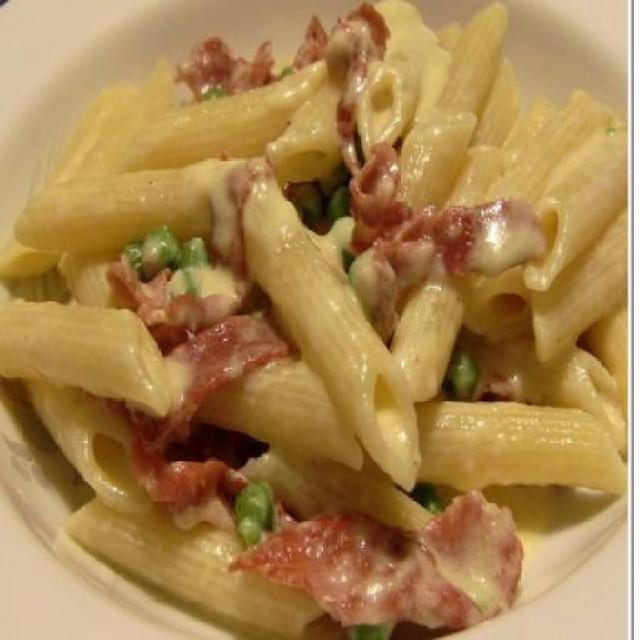Oil pasta: (20, 33, 634, 639)
